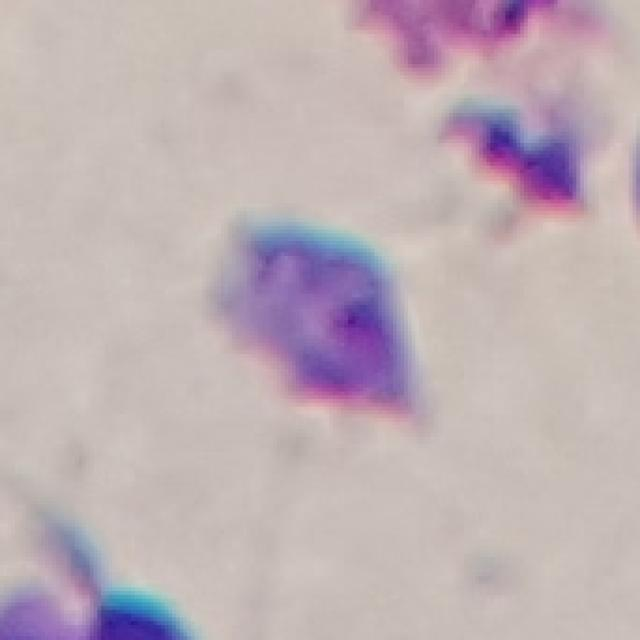non-sperm: (233, 222, 417, 416)
